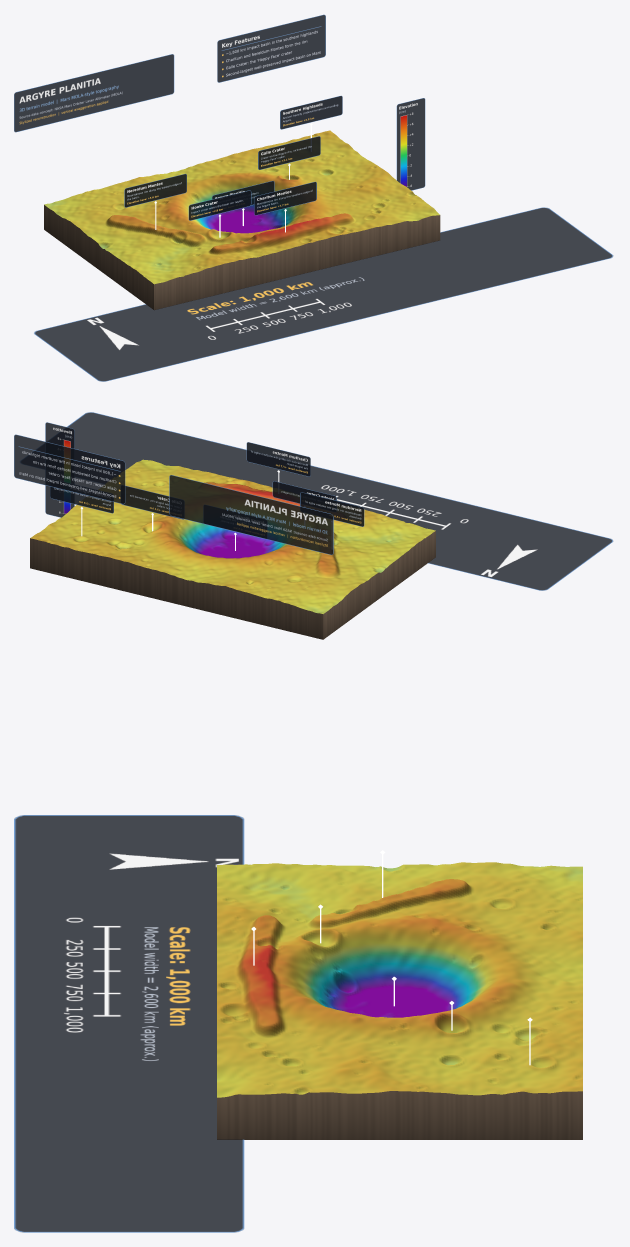
File: 09_Argyre_Planitia.glb
3 views of the same model, one above another, from view 1: azimuth 30°, elevation 25°; view 2: azimuth 150°, elevation 25°; view 3: azimuth 270°, elevation 25° (orthographic). The views are drawn at different scales.
Parts seen in each view (by area): view 1: Info_ScaleAndCompass, Terrain_Surface, Terrain_Walls, Info_Title, Info_KeyFeatures, Info_ElevationLegend, Label_Galle Crater, Label_Southern Highlands, Label_Charitum Montes, Label_Nereidum Montes, Label_Hooke Crater; view 2: Terrain_Surface, Info_ScaleAndCompass, Terrain_Walls, Info_Title, Info_KeyFeatures, Label_Charitum Montes, Info_ElevationLegend, Label_Nereidum Montes, Label_Galle Crater, Label_Southern Highlands, Label_Argyre Planitia, Label_Hooke Crater; view 3: Info_ScaleAndCompass, Terrain_Surface, Terrain_Walls.
Part boxes in pixels (x1,y1,x2,y2): Info_ScaleAndCompass: [34, 207, 613, 381]; Terrain_Surface: [44, 130, 439, 284]; Terrain_Walls: [44, 205, 440, 310]; Info_Title: [14, 54, 174, 132]; Info_KeyFeatures: [217, 14, 325, 82]; Info_ElevationLegend: [396, 98, 425, 190]; Label_Galle Crater: [258, 136, 320, 169]; Label_Southern Highlands: [280, 95, 342, 129]; Label_Charitum Montes: [254, 181, 316, 215]; Label_Nereidum Montes: [124, 173, 186, 207]; Label_Hooke Crater: [188, 190, 251, 220]; Terrain_Surface: [30, 459, 435, 613]; Info_ScaleAndCompass: [23, 412, 613, 590]; Terrain_Walls: [30, 531, 435, 639]; Info_Title: [169, 475, 333, 555]; Info_KeyFeatures: [14, 434, 125, 504]; Label_Charitum Montes: [246, 442, 310, 476]; Info_ElevationLegend: [45, 422, 74, 517]; Label_Nereidum Montes: [300, 492, 364, 526]; Label_Galle Crater: [121, 485, 183, 519]; Label_Southern Highlands: [50, 479, 113, 513]; Label_Argyre Planitia: [204, 505, 266, 539]; Label_Hooke Crater: [272, 481, 336, 503]; Info_ScaleAndCompass: [14, 815, 244, 1232]; Terrain_Surface: [217, 862, 582, 1097]; Terrain_Walls: [217, 1091, 582, 1139].
Size of the model in its own units: 18 by 4.57 by 10.97.
Materials: 12 (10 with a texture image).
